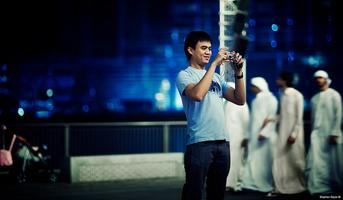person: (176, 31, 249, 200)
